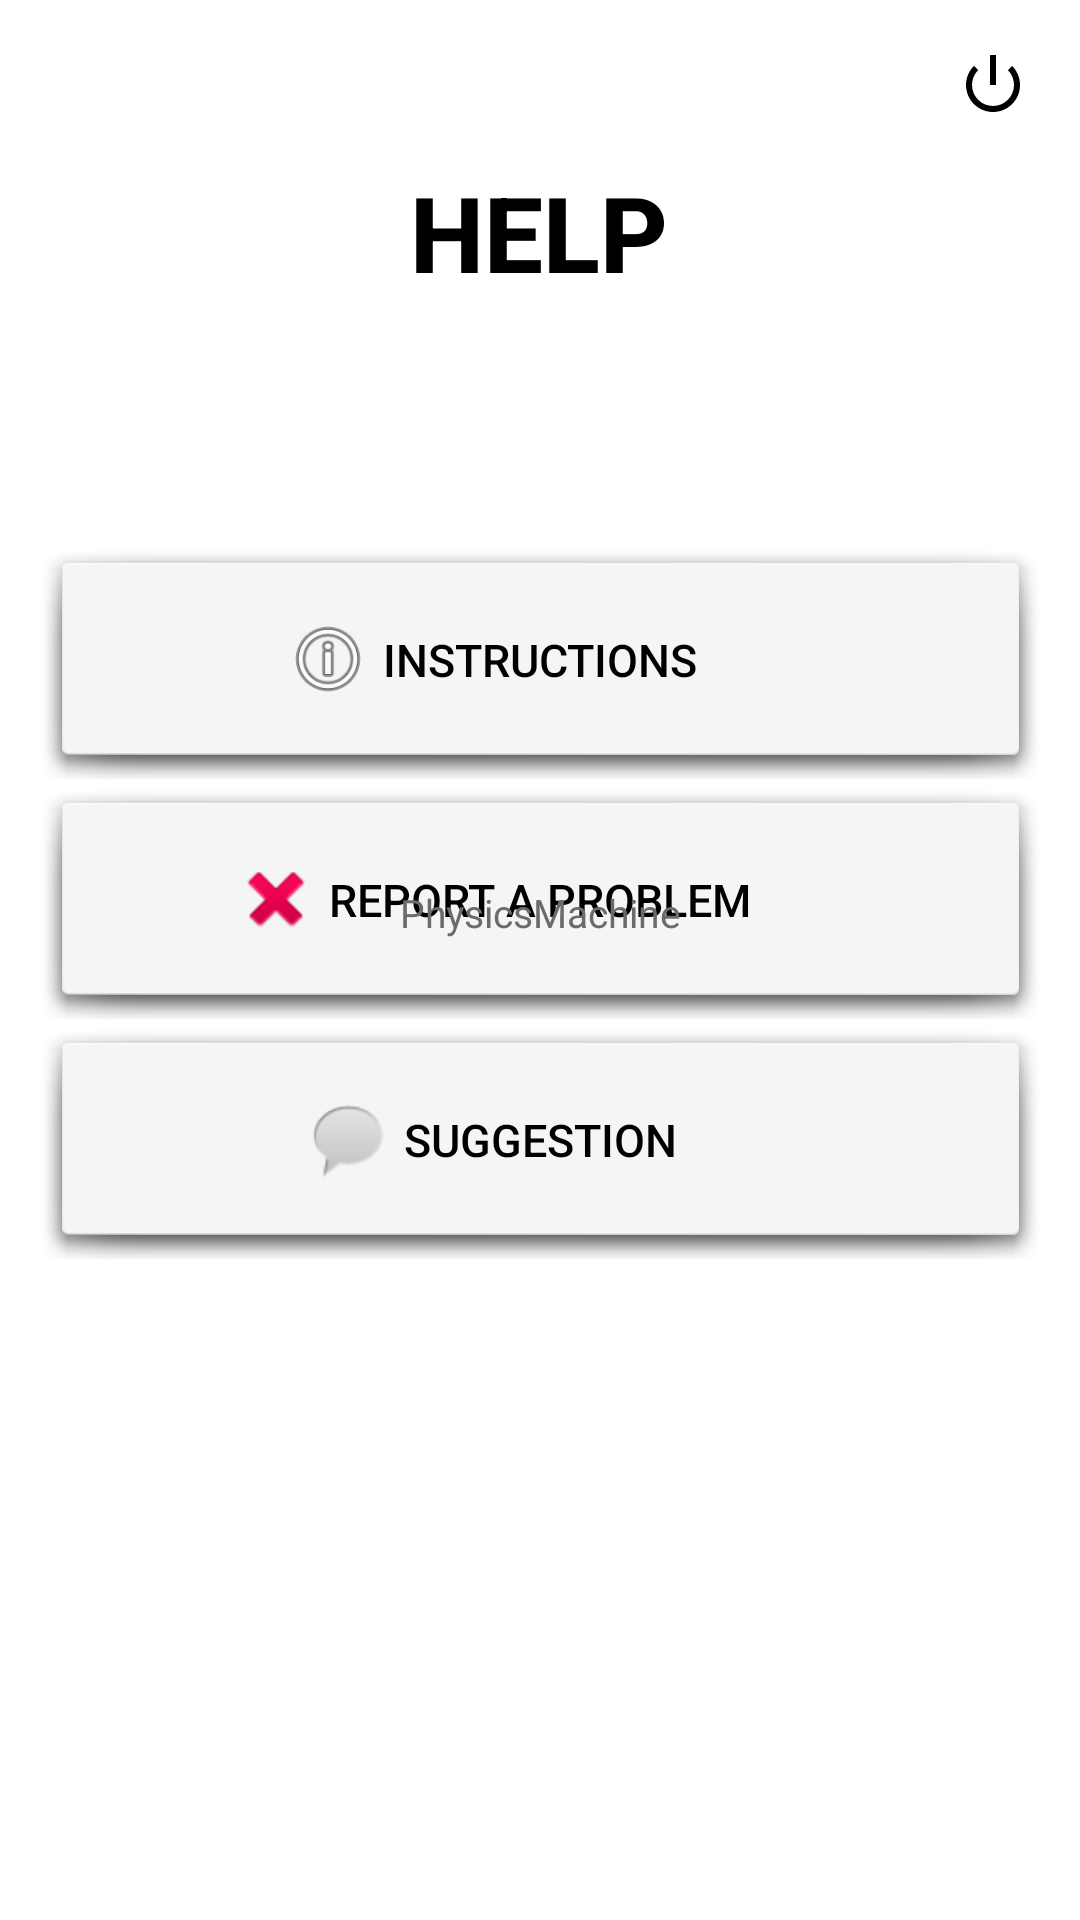

Where to tap for icons on this 1080 × 1920 app screen, as (x=x, y=y):
delete: (x=276, y=899)
info details: (x=328, y=659)
lock power off: (x=993, y=83)
sym action chat: (x=347, y=1140)
